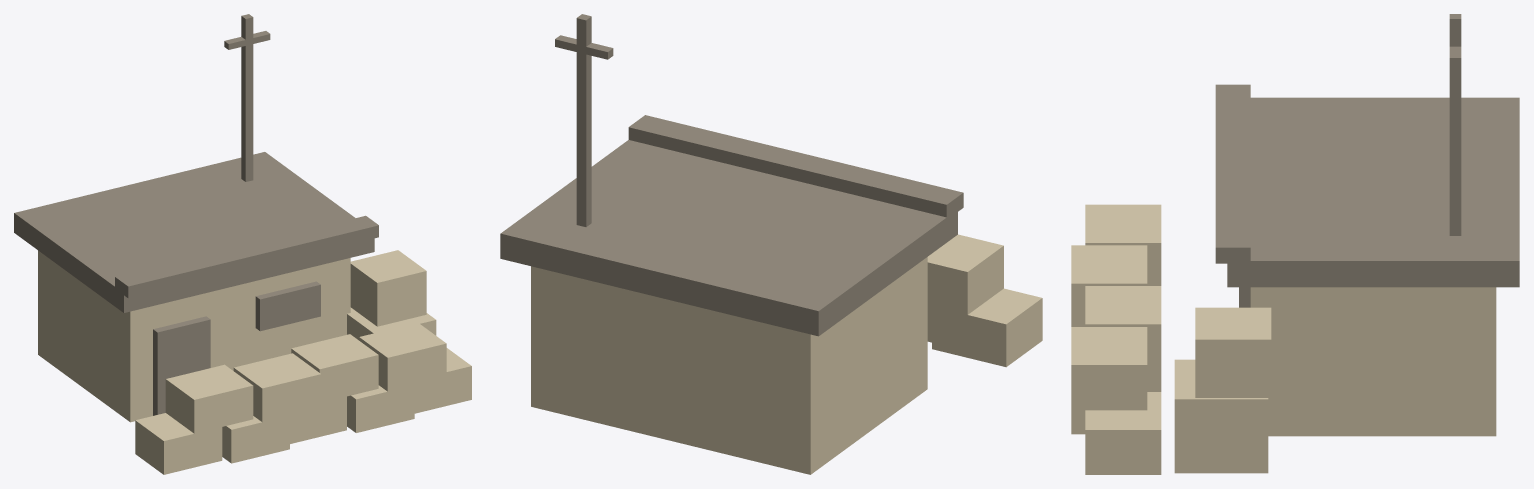
File: outpost.glb
3 renders of one model, left to right at view 1: azimuth 30°, elevation 25°; view 2: azimuth 150°, elevation 25°; view 3: azimuth 270°, elevation 25°, orthographic. The views are drawn at different scales.
Visible parts, largest first — view 1: Outpost, accent_chunk_2, chunk_1, accent_Outpost, chunk_3; view 2: Outpost, accent_chunk_2, chunk_1, accent_Outpost; view 3: accent_chunk_2, Outpost, chunk_1, chunk_3, accent_Outpost.
Part boxes in pixels (x1,y1,x2,y2): Outpost: (38, 250, 471, 474); accent_chunk_2: (14, 152, 378, 312); chunk_1: (165, 322, 446, 433); accent_Outpost: (153, 14, 320, 415); chunk_3: (347, 250, 436, 340); Outpost: (531, 257, 1042, 474); accent_chunk_2: (500, 115, 963, 336); chunk_1: (927, 234, 1003, 314); accent_Outpost: (555, 14, 613, 226); accent_chunk_2: (1215, 84, 1519, 287); Outpost: (1071, 287, 1496, 474); chunk_1: (1071, 204, 1161, 410); chunk_3: (1174, 307, 1271, 473); accent_Outpost: (1239, 14, 1461, 307).
Bounding box in the file's own units: 1.3 × 1.22 × 1.23.
